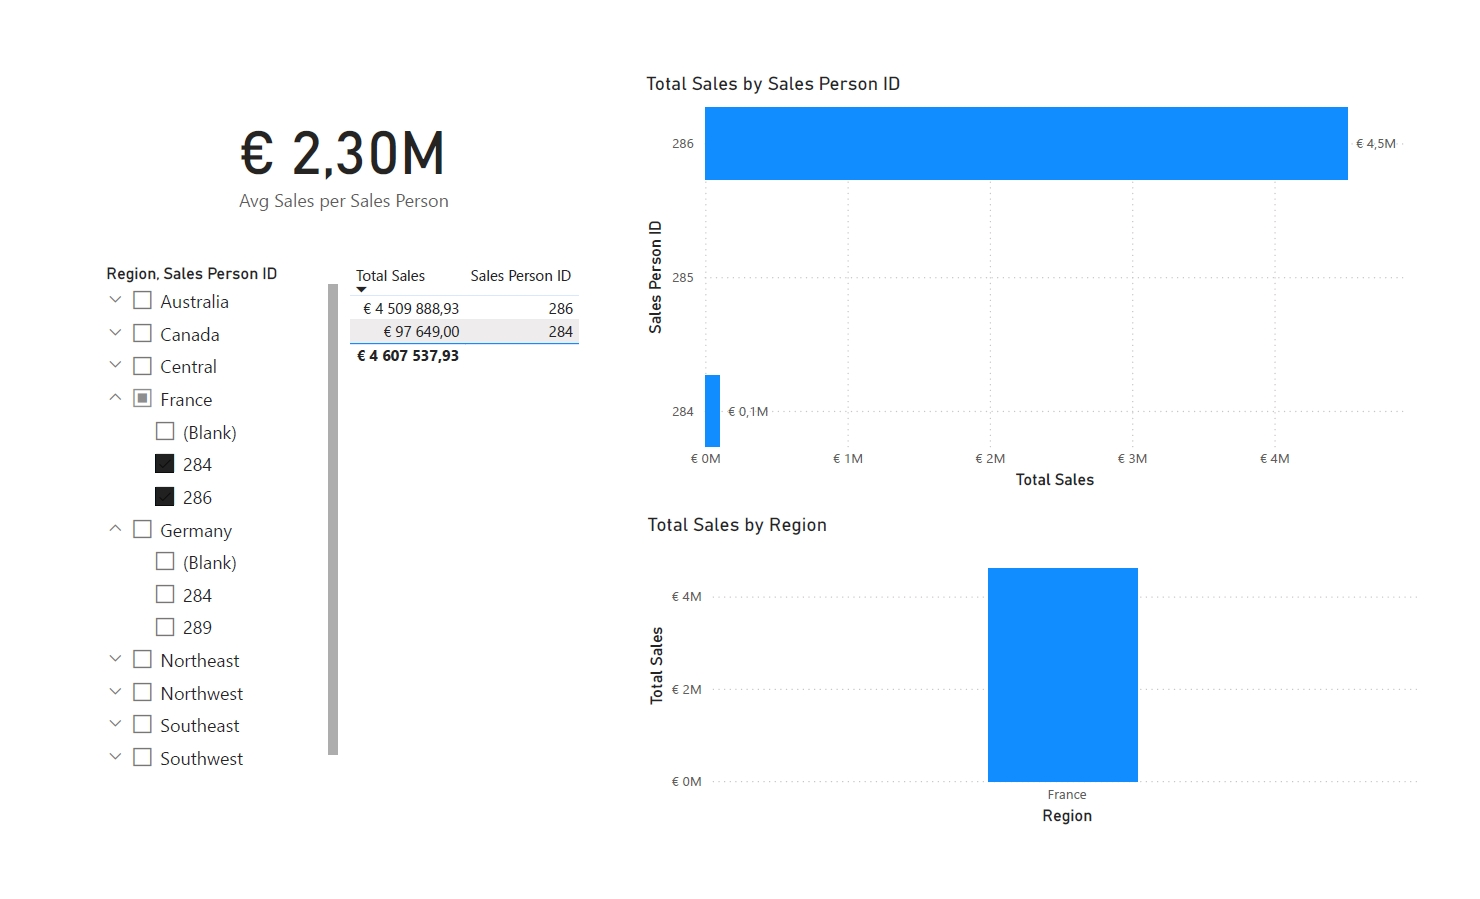

The page's visual inventory and layout, read from the dashboard file:
{"tool":"powerbi","page":{"name":"operational","canvas":[1280,720],"ordinal":1},"visuals":[{"type":"tableEx","fields":{"Values":["Sum(Sales SalesOrderDetail.LineTotal)","Sales SalesOrderHeader.SalesPersonID"]},"box":[275.7,200.4,224.7,418.7],"z":0},{"type":"slicer","fields":{"Values":["Sales SalesTerritory.Name","Sales SalesOrderHeader.SalesPersonID"]},"box":[52.3,200.4,223.4,469.7],"z":1000},{"type":"card","fields":{"Values":["Sales SalesOrderHeader.Avg Sales per Salesperson"]},"box":[162.9,34.3,224.3,118.6],"z":2000},{"type":"clusteredBarChart","fields":{"Category":["Sales SalesOrderHeader.SalesPersonID"],"Y":["Sum(Sales SalesOrderDetail.LineTotal)"]},"box":[540,33.8,698.8,376.2],"z":3000},{"type":"clusteredColumnChart","fields":{"Y":["Sum(Sales SalesOrderDetail.LineTotal)"],"Category":["Sales SalesTerritory.Name"]},"box":[541.2,426.3,698.2,282.1],"z":4000}]}

Visuals, with their boxes on the page's 1280x720 design canvas (x1, y1, x2, y2). These are canvas units, not pixel positions in the 1480x899 screenshot, which may show the page scaled, cropped or inside an application window:
tableEx - Sum(Sales SalesOrderDetail.LineTotal) x Sales SalesOrderHeader.SalesPersonID: (x1=276, y1=200, x2=500, y2=619)
slicer - Sales SalesTerritory.Name x Sales SalesOrderHeader.SalesPersonID: (x1=52, y1=200, x2=276, y2=670)
card - Sales SalesOrderHeader.Avg Sales per Salesperson: (x1=163, y1=34, x2=387, y2=153)
clusteredBarChart - Sales SalesOrderHeader.SalesPersonID x Sum(Sales SalesOrderDetail.LineTotal): (x1=540, y1=34, x2=1239, y2=410)
clusteredColumnChart - Sum(Sales SalesOrderDetail.LineTotal) x Sales SalesTerritory.Name: (x1=541, y1=426, x2=1239, y2=708)
